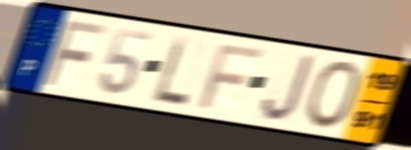5: (98, 26, 154, 97)
F: (41, 17, 111, 88), (196, 41, 265, 111)
J: (260, 52, 317, 124)
L: (152, 33, 192, 108)
O: (303, 59, 363, 131)
